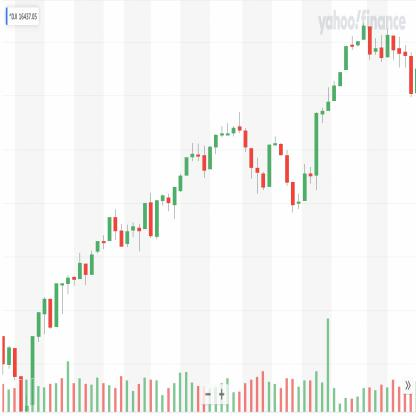Bearish: 3 Black Crows: (278, 140, 296, 216)
Bullish: 3 White Soldiers: (172, 150, 189, 223), (331, 43, 349, 104)
Bullish: Tweezer Bottom: (148, 189, 160, 242)
